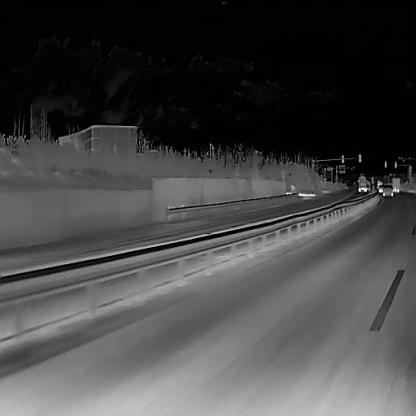car: (381, 184, 393, 196), (377, 184, 384, 192)
truck: (356, 173, 366, 192), (390, 176, 400, 192), (376, 179, 383, 189)
